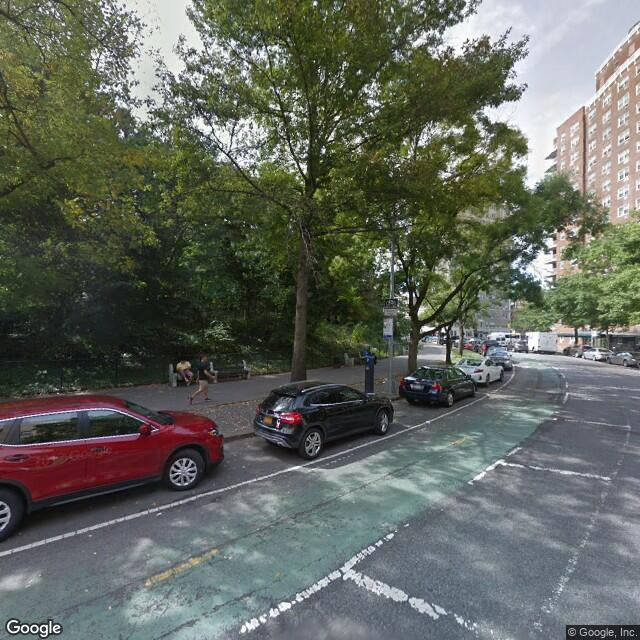litter: (154, 510, 163, 516), (382, 377, 388, 383), (426, 419, 430, 423)
